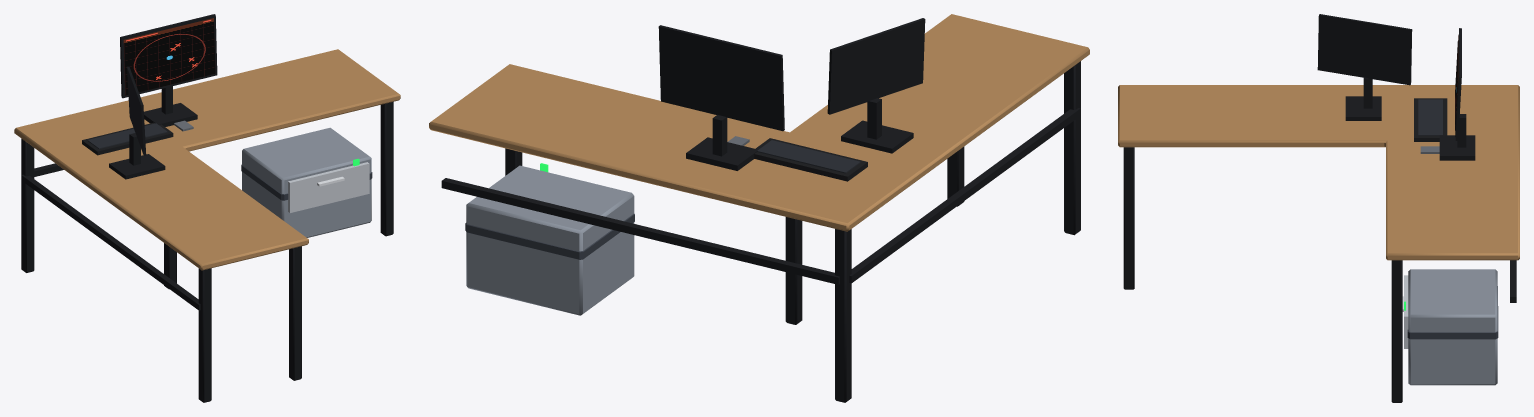
Rendered from desk_corner_desk.glb.
The picture shows the model from 3 angles, left to right: view 1: azimuth 30°, elevation 25°; view 2: azimuth 150°, elevation 25°; view 3: azimuth 270°, elevation 25°; orthographic projection. The views are drawn at different scales.
Parts seen in each view (by area): view 1: desk_corner_desk; view 2: desk_corner_desk; view 3: desk_corner_desk.
Part boxes in pixels (x1,y1,x2,y2): desk_corner_desk: (14, 14, 400, 402); desk_corner_desk: (429, 14, 1089, 402); desk_corner_desk: (1118, 14, 1519, 402).
Size of the model in its own units: 1.8 by 1.23 by 1.8.
Materials: 11 (1 with a texture image).
